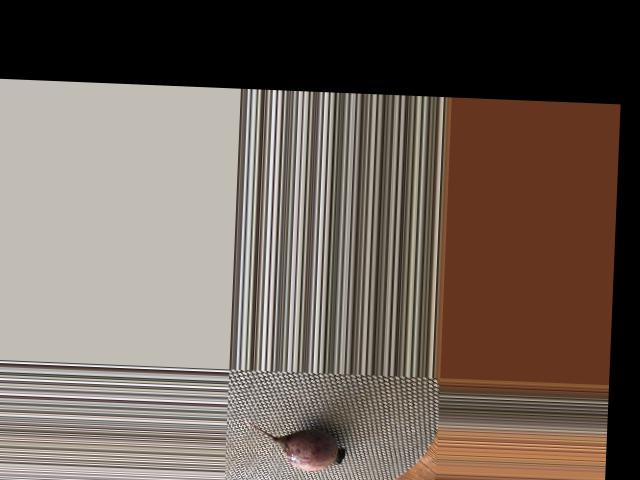beet: (243, 417, 347, 472)
